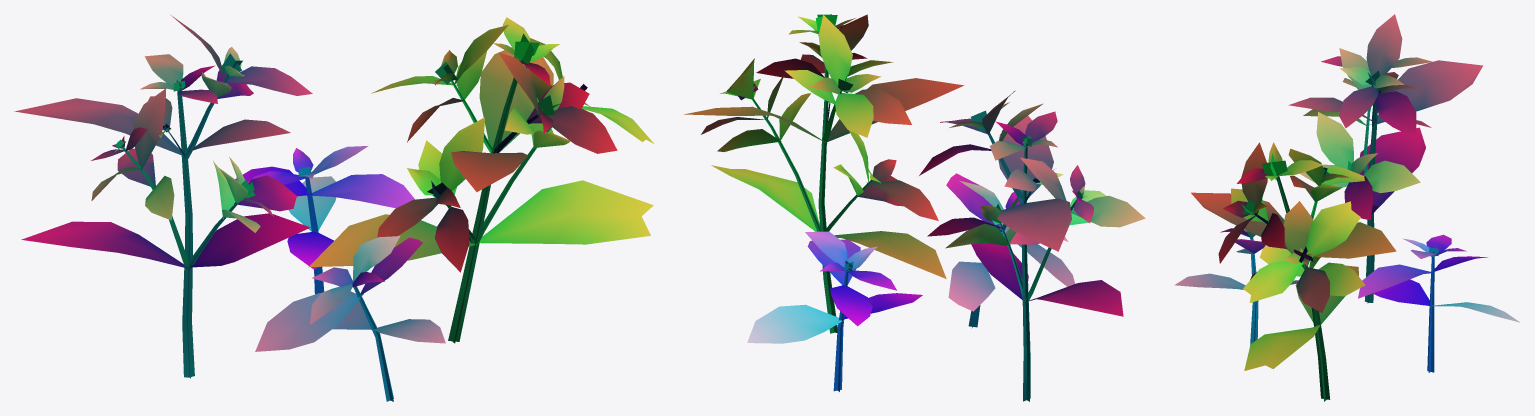
The model's file is Common_Hemp_Nettle_xh1kdfbqx_Low_xh1kdfbqx_VarF_LOD1.fbx.
The picture shows the model from 3 angles, left to right: view 1: azimuth 30°, elevation 25°; view 2: azimuth 150°, elevation 25°; view 3: azimuth 270°, elevation 25°; orthographic projection. The views are drawn at different scales.
Visible parts, largest first — view 1: _zexs_VarF_LOD3; view 2: _zexs_VarF_LOD3; view 3: _zexs_VarF_LOD3.
Boxes of the visible parts, x1,y1,x2,y2 form: _zexs_VarF_LOD3: [14, 15, 653, 401]; _zexs_VarF_LOD3: [683, 14, 1145, 401]; _zexs_VarF_LOD3: [1174, 14, 1519, 401].
Size of the model in its own units: 133 by 83.64 by 90.66.
